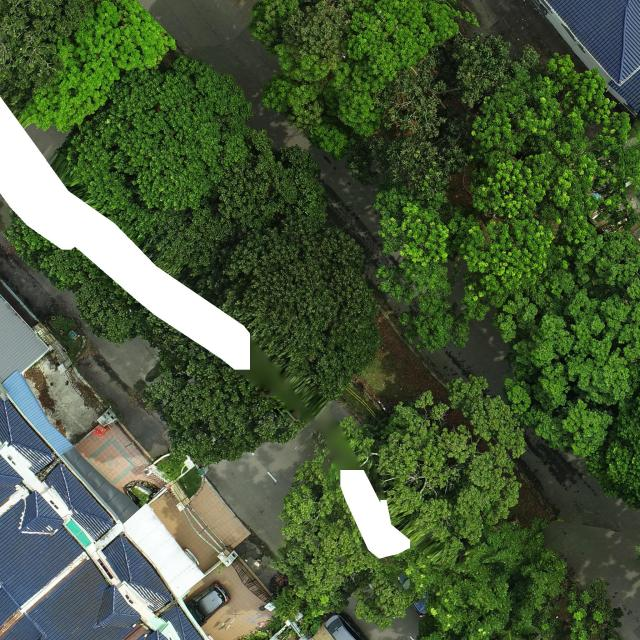Tree: (376, 50, 640, 353), (142, 142, 384, 470), (265, 372, 527, 629), (491, 228, 640, 511), (59, 54, 275, 236), (248, 0, 480, 161), (345, 33, 540, 191), (416, 515, 618, 640), (0, 0, 179, 132)
